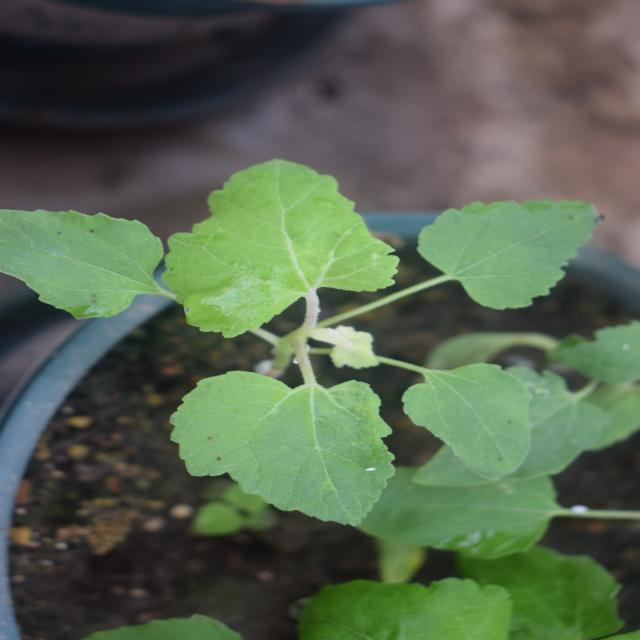cocklebur: (155, 14, 518, 576)
